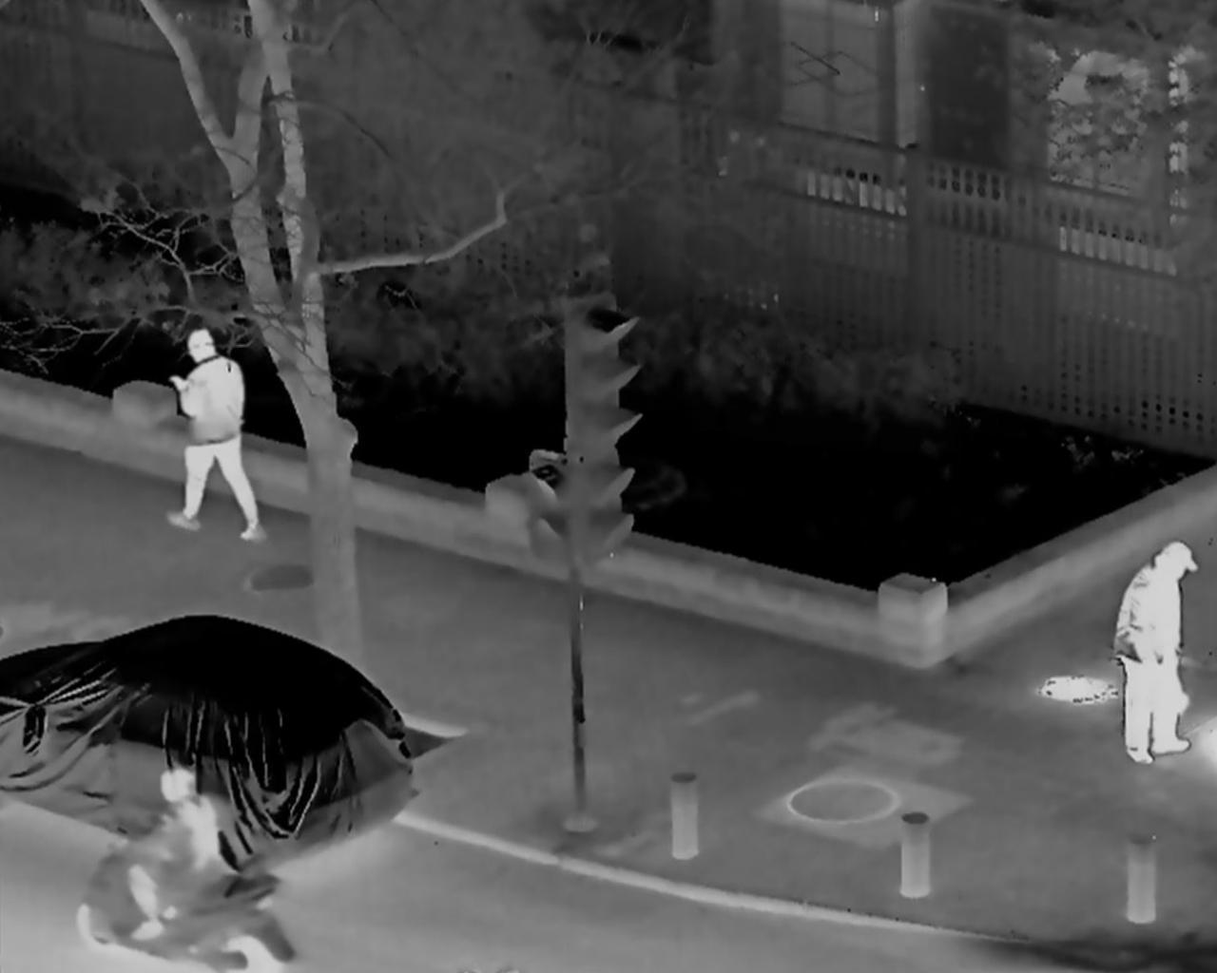person: (161, 333, 271, 541), (111, 769, 233, 939), (1113, 541, 1199, 767)
